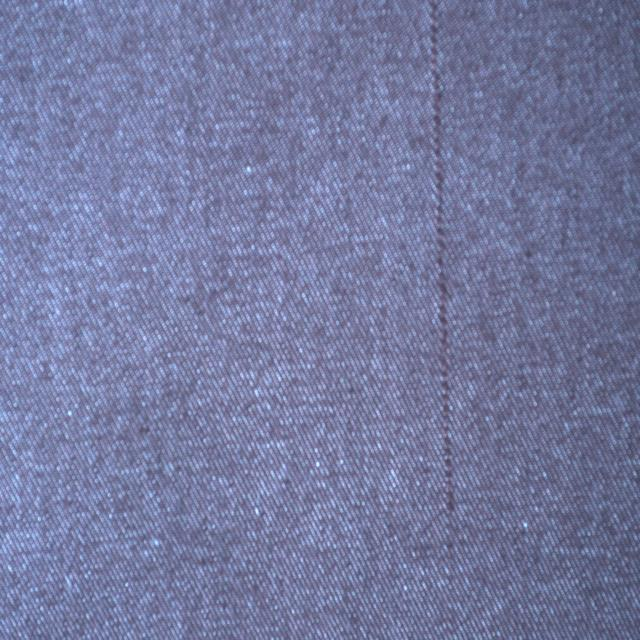Line: (430, 0, 456, 640)
